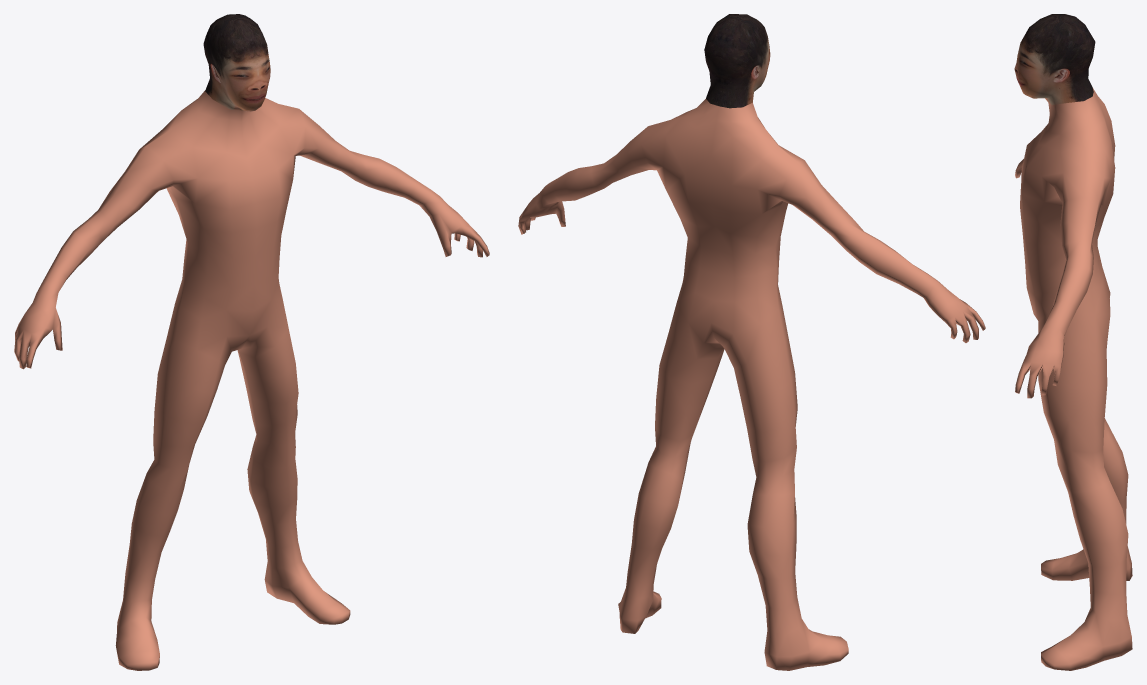
File: human.fbx
3 renders of one model, left to right at view 1: azimuth 30°, elevation 25°; view 2: azimuth 150°, elevation 25°; view 3: azimuth 270°, elevation 25°, orthographic. The views are drawn at different scales.
Visible parts, largest first — view 1: Human_BaseMesh; view 2: Human_BaseMesh; view 3: Human_BaseMesh.
Part boxes in pixels (left/top/right/bottom): Human_BaseMesh: left=14, top=14, right=489, bottom=670; Human_BaseMesh: left=518, top=14, right=985, bottom=670; Human_BaseMesh: left=1014, top=14, right=1132, bottom=670.
Size of the model in its own units: 136 by 176 by 31.15.
1 material, 1 textured.
